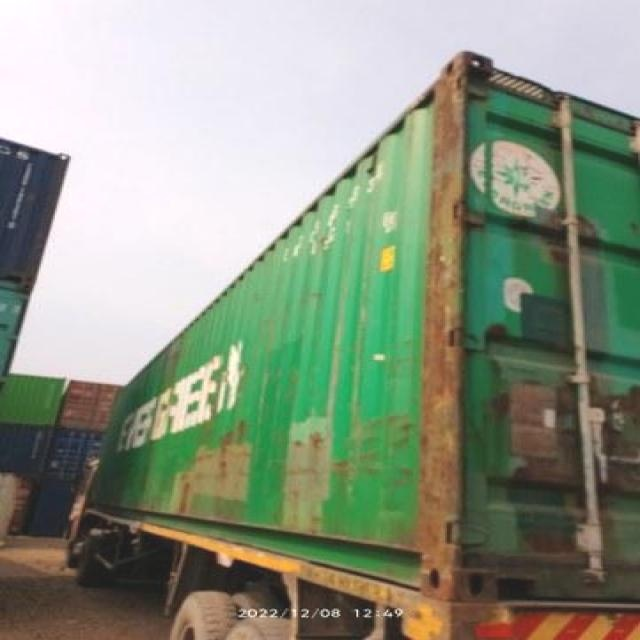Rusty: (345, 417, 421, 501), (501, 392, 561, 453), (230, 420, 278, 474)
